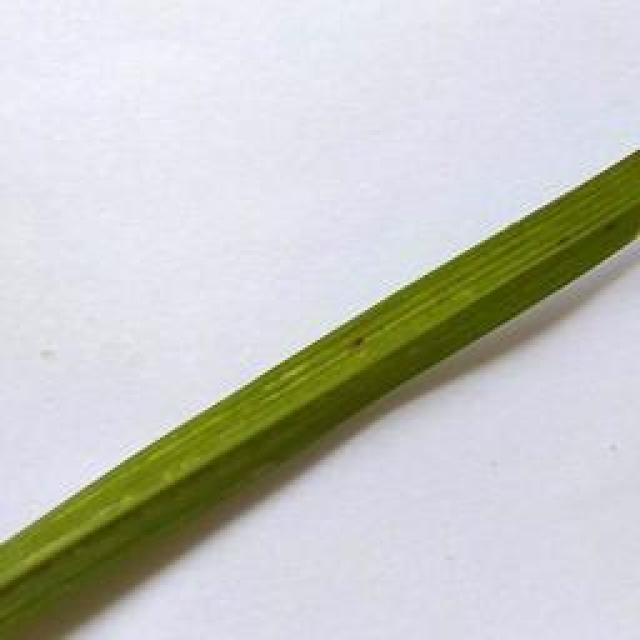Brown_Spot: (586, 212, 628, 241), (544, 224, 571, 259), (345, 337, 377, 356)
